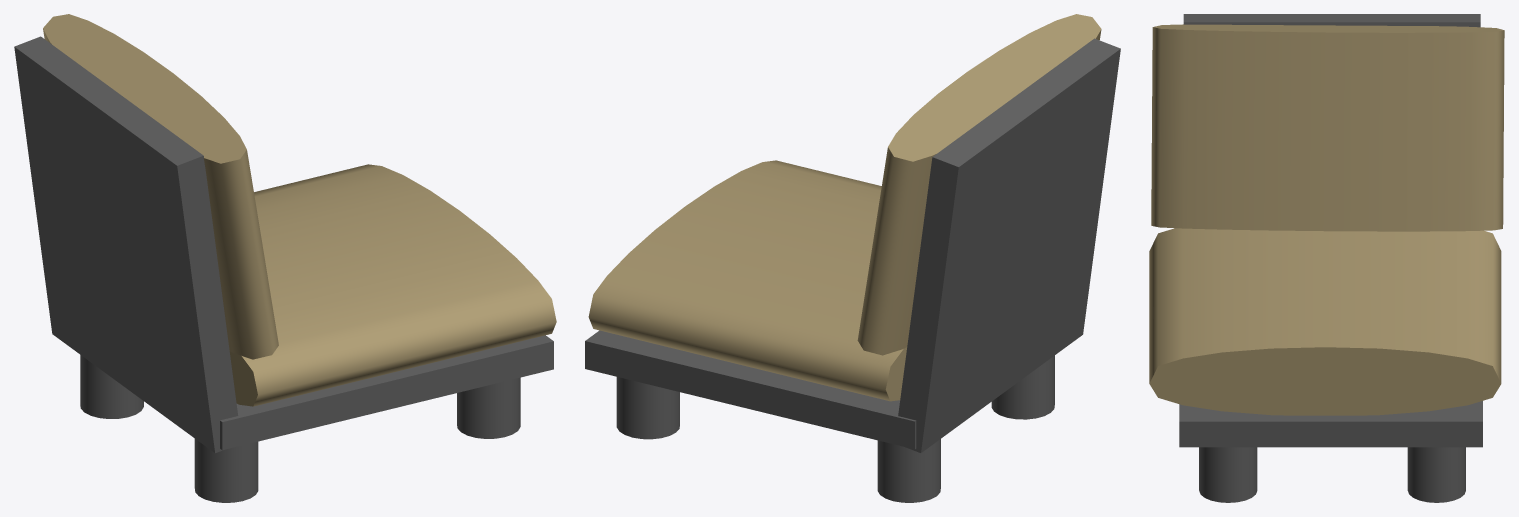
Rendered from chair.fbx.
3 views of the same model, side by side, from view 1: azimuth 30°, elevation 25°; view 2: azimuth 150°, elevation 25°; view 3: azimuth 270°, elevation 25° (orthographic). The views are drawn at different scales.
Parts seen in each view (by area): view 1: pasted__pasted__pCylinder1 (×2), pasted__pCube1, pCube1, pasted__pCylinder2, pCylinder2, pasted__pasted__pCylinder2; view 2: pasted__pasted__pCylinder1 (×2), pasted__pCube1, pCube1, pasted__pCylinder2 (×2), pasted__pasted__pCylinder2; view 3: pasted__pasted__pCylinder1 (×2), pCube1, pasted__pCube1, pasted__pCylinder2, pCylinder2.
Part boxes in pixels (left/top/right/bottom): pasted__pasted__pCylinder1 (×2): left=43, top=14, right=556, bottom=406; pasted__pCube1: left=14, top=36, right=238, bottom=453; pCube1: left=220, top=335, right=553, bottom=450; pasted__pCylinder2: left=194, top=438, right=258, bottom=502; pCylinder2: left=457, top=377, right=520, bottom=438; pasted__pasted__pCylinder2: left=80, top=355, right=143, bottom=418; pasted__pasted__pCylinder1 (×2): left=588, top=14, right=1101, bottom=401; pasted__pCube1: left=898, top=38, right=1120, bottom=452; pCube1: left=585, top=330, right=916, bottom=449; pasted__pCylinder2 (×2): left=616, top=355, right=1054, bottom=439; pasted__pasted__pCylinder2: left=877, top=439, right=940, bottom=502; pasted__pasted__pCylinder1 (×2): left=1149, top=24, right=1504, bottom=415; pCube1: left=1179, top=401, right=1482, bottom=447; pasted__pCube1: left=1183, top=14, right=1480, bottom=27; pasted__pCylinder2: left=1407, top=447, right=1465, bottom=502; pCylinder2: left=1199, top=447, right=1257, bottom=502.
Bounding box in the file's own units: 3.77 × 3.61 × 3.4.
